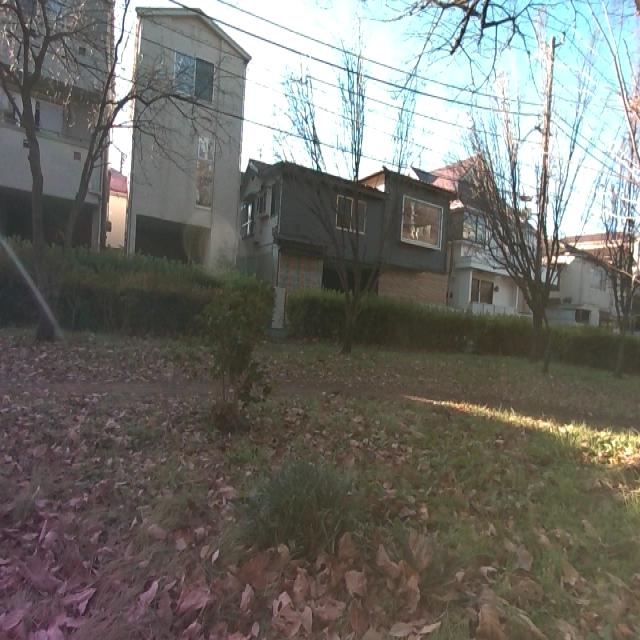artifact: (238, 143, 536, 311), (115, 0, 260, 280), (0, 0, 113, 241), (539, 220, 635, 337)
bush: (286, 294, 640, 378), (0, 246, 272, 332), (197, 261, 272, 424)
tree: (0, 2, 194, 359), (291, 54, 422, 366), (480, 39, 595, 376), (600, 60, 640, 380)
